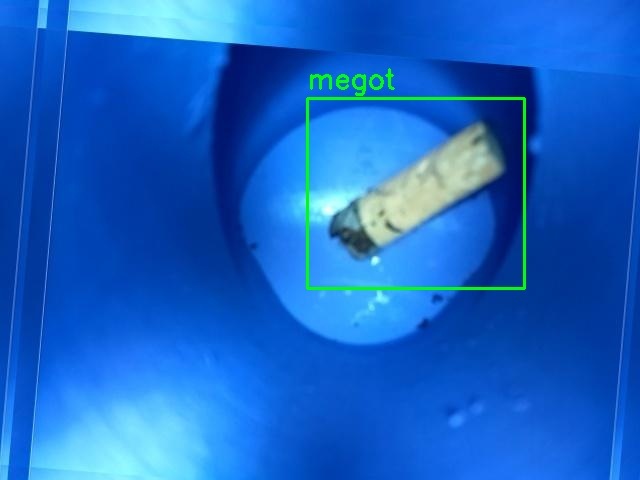megot: (307, 98, 524, 288)
